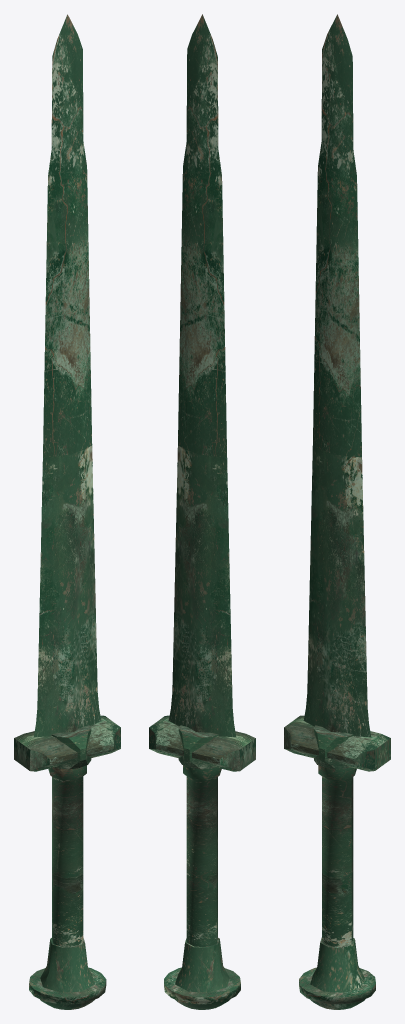
The picture shows the model from 3 angles, left to right: view 1: azimuth 30°, elevation 25°; view 2: azimuth 150°, elevation 25°; view 3: azimuth 330°, elevation 25°; orthographic projection.
Parts seen in each view (by area): view 1: Ob3; view 2: Ob3; view 3: Ob3.
Boxes of the visible parts, left/top/right/bottom form: Ob3: left=14, top=14, right=120, bottom=1009; Ob3: left=149, top=14, right=255, bottom=1009; Ob3: left=284, top=14, right=390, bottom=1009.
Size of the model in its own units: 39.22 by 409 by 29.02.
Materials: 1 (1 with a texture image).
